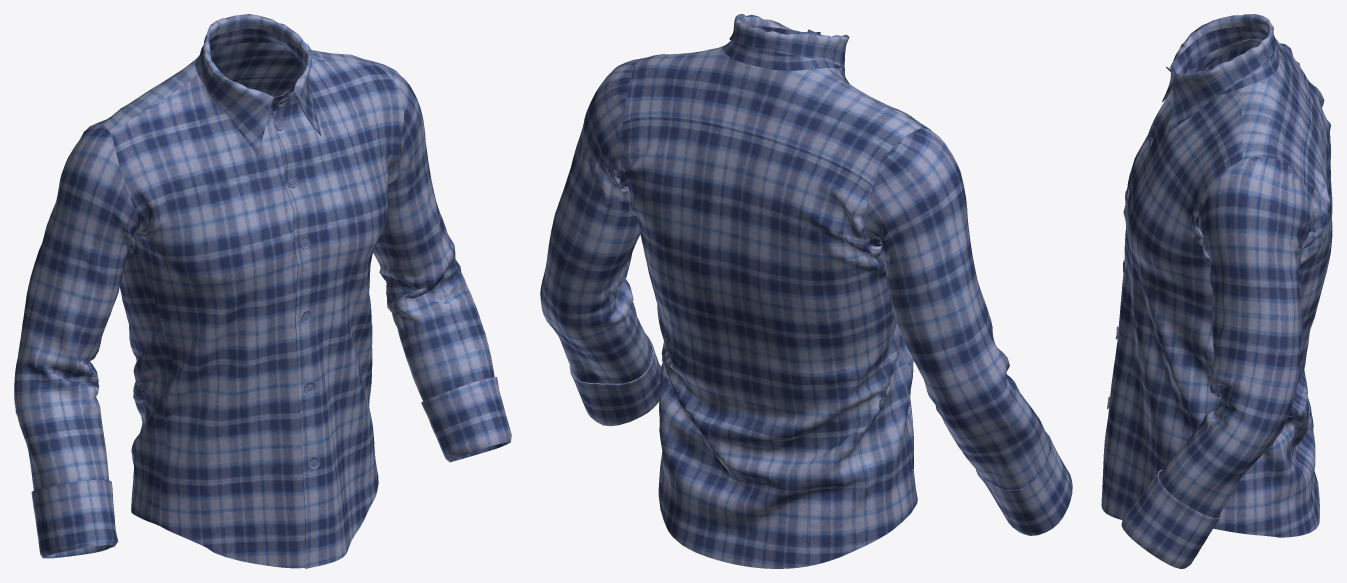
File: checkShirt.dae
3 views of the same model, side by side, from view 1: azimuth 30°, elevation 25°; view 2: azimuth 150°, elevation 25°; view 3: azimuth 270°, elevation 25° (orthographic). The views are drawn at different scales.
Visible parts, largest first — view 1: Shirt01 (×9), Shirt00_1_Pattern2D_4228; view 2: Shirt01 (×9); view 3: Shirt01 (×8), Shirt00_1_Pattern2D_4228.
Boxes of the visible parts, <box> form: Shirt01 (×9): <box>14,14,511,568</box>; Shirt00_1_Pattern2D_4228: <box>273,59,403,568</box>; Shirt01 (×9): <box>540,14,1072,568</box>; Shirt01 (×8): <box>1121,14,1332,568</box>; Shirt00_1_Pattern2D_4228: <box>1101,86,1242,519</box>.
Size of the model in its own units: 0.6443 by 0.6587 by 0.2865.
1 material, 1 textured.
